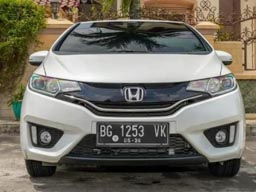plat: (97, 122, 168, 137)
